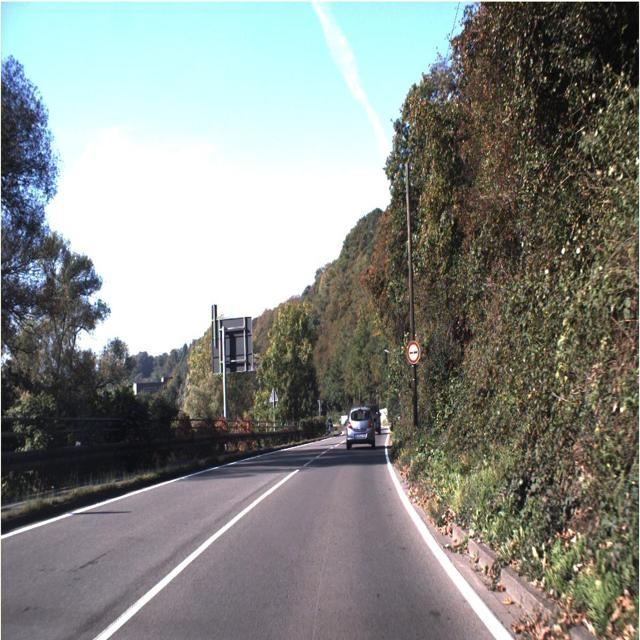forb_overtake: (406, 340, 420, 363)
